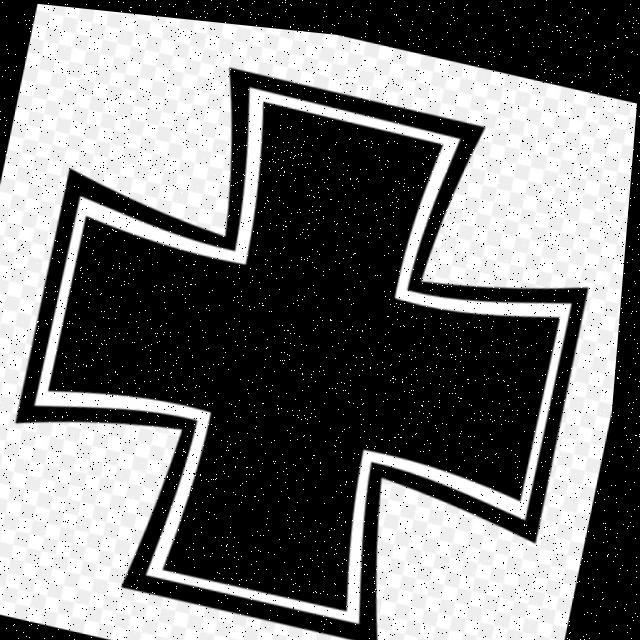cross: (42, 45, 572, 632)
